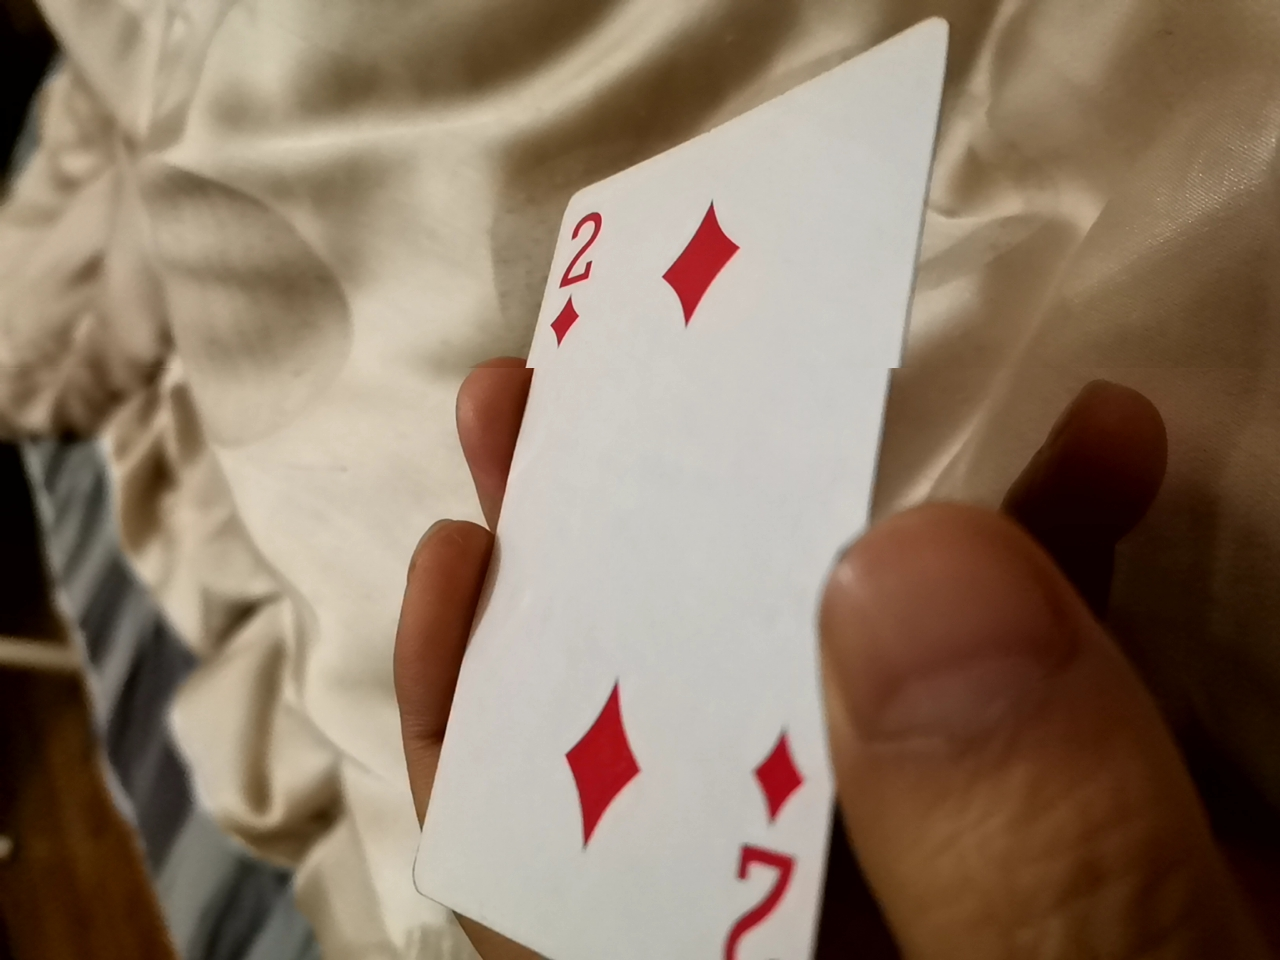fk 2: (383, 52, 926, 951)
